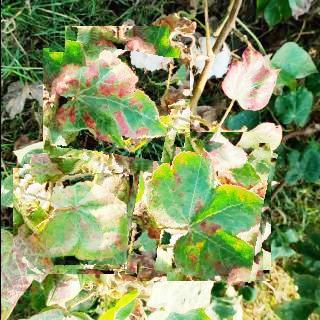blight: (120, 132, 270, 281), (48, 32, 184, 168)
leaf spot: (17, 159, 126, 269)
